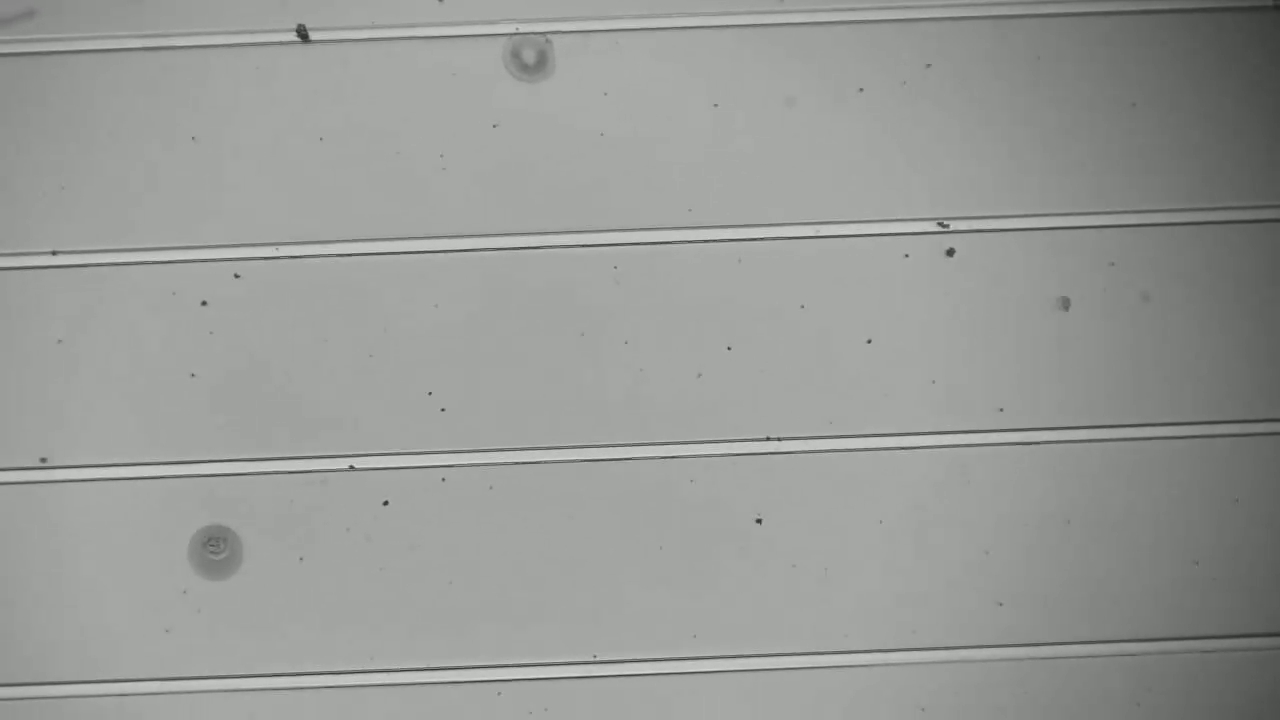stains_enbedded: (933, 213, 956, 237)
